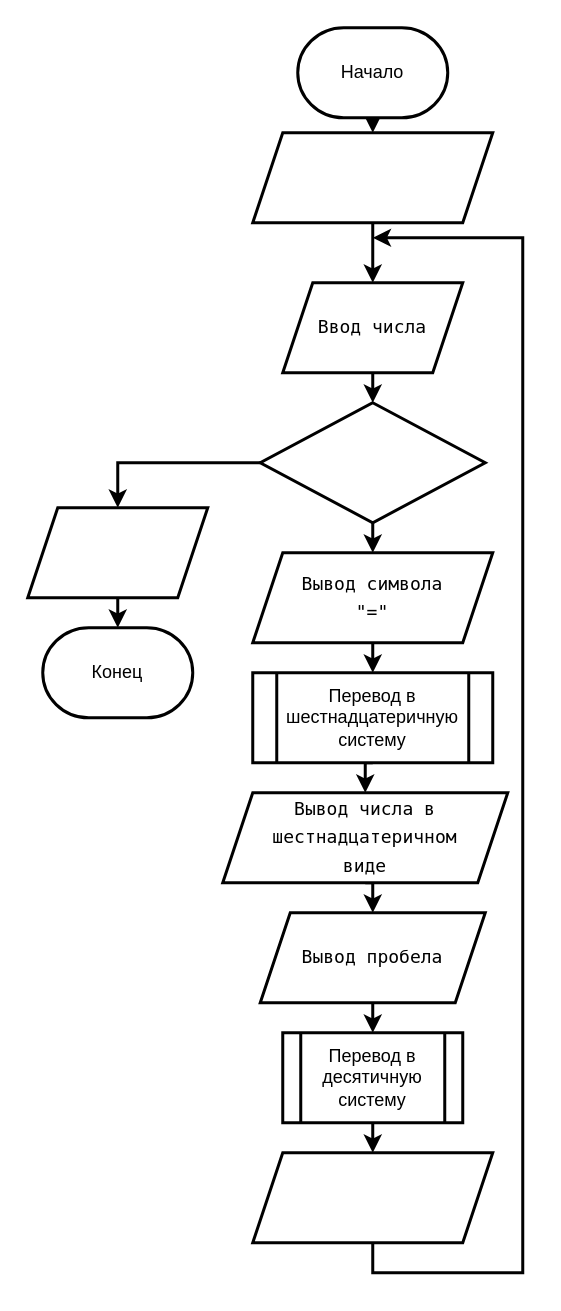
Image size: 561x1311. Some labels were removed from this diagram. Here are the shapes that lost their labels. From the top down, the centre of each, then its label:
point 372,177: Вывод сообщения о вводе числа
point 372,462: Проверка правильности вводимых символов
point 117,552: Вывод справки
point 372,1197: Вывод числа в десятичном виде
